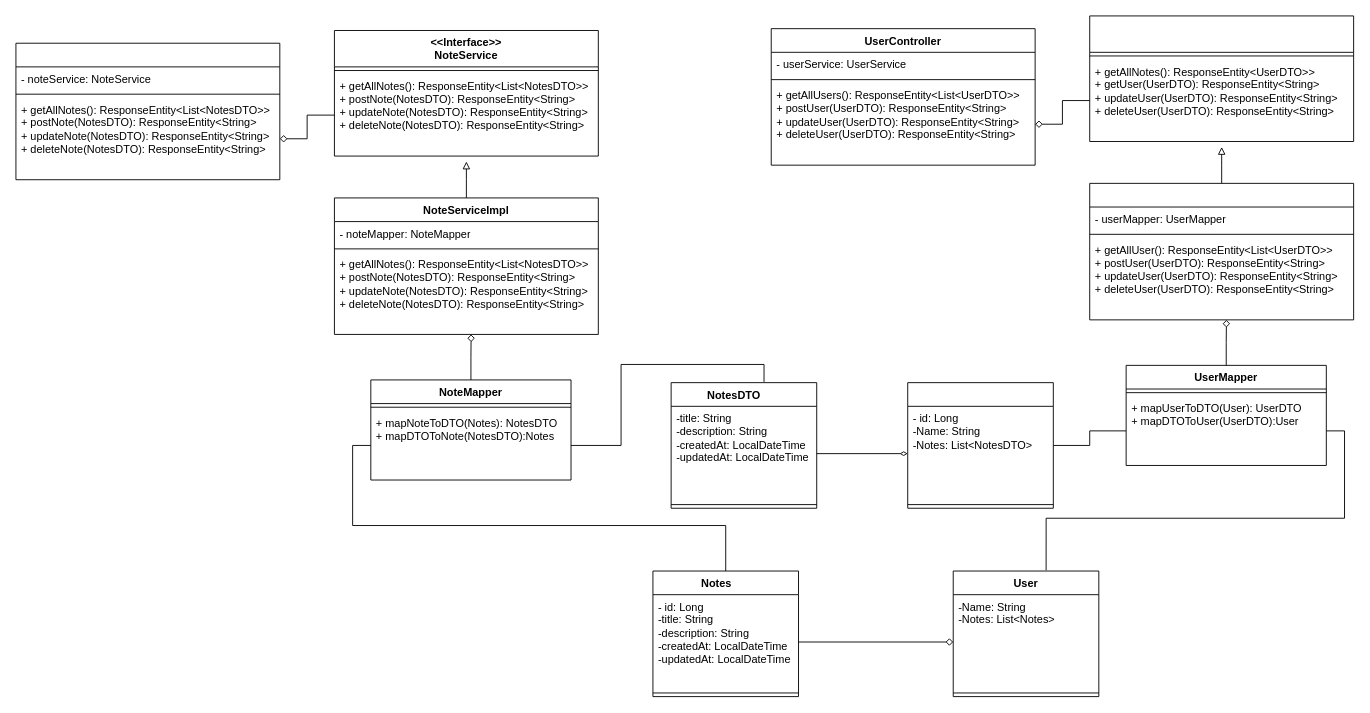
The diagram is 1370 pixels wide and 713 high, and some of its shapes have lost their labels. Each missing label, with the box of its shape:
<<Interface>> UserService: (1089, 15, 1354, 142)
NoteController: (15, 42, 280, 180)
UserDTO: (907, 382, 1053, 508)
UserServiceImpl: (1089, 182, 1354, 320)
